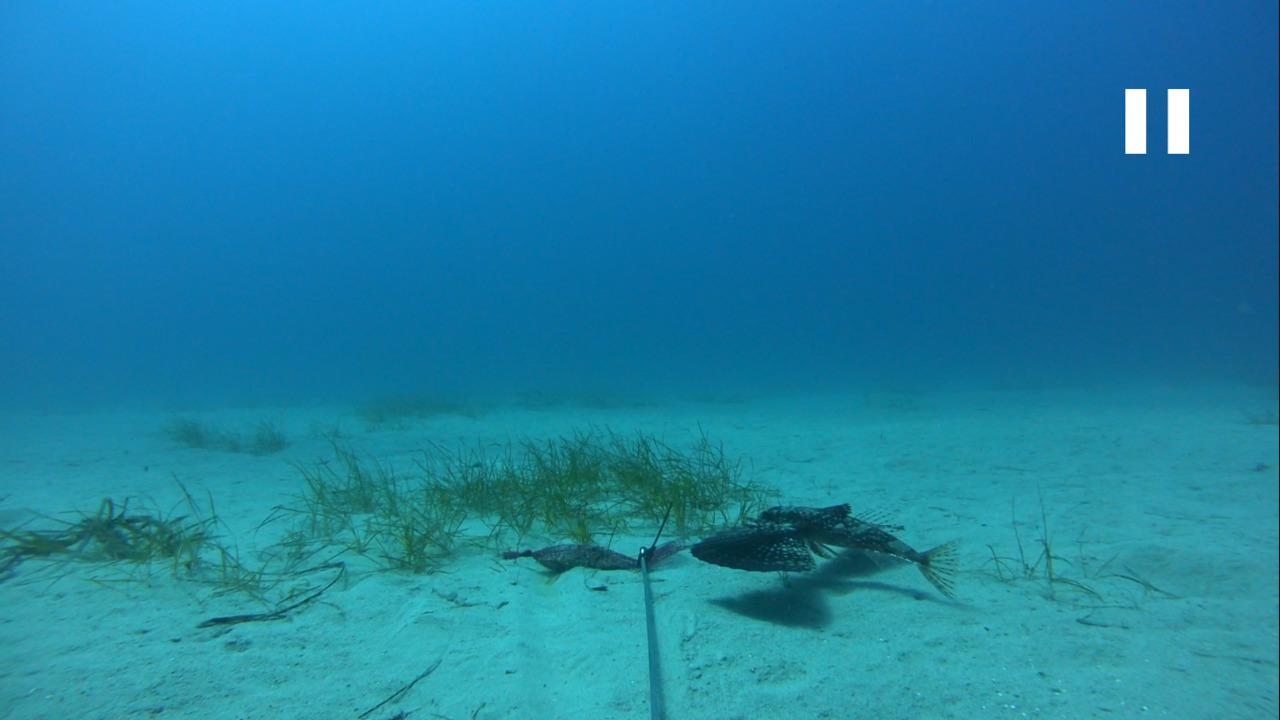dactylopterus: (687, 499, 972, 612)
